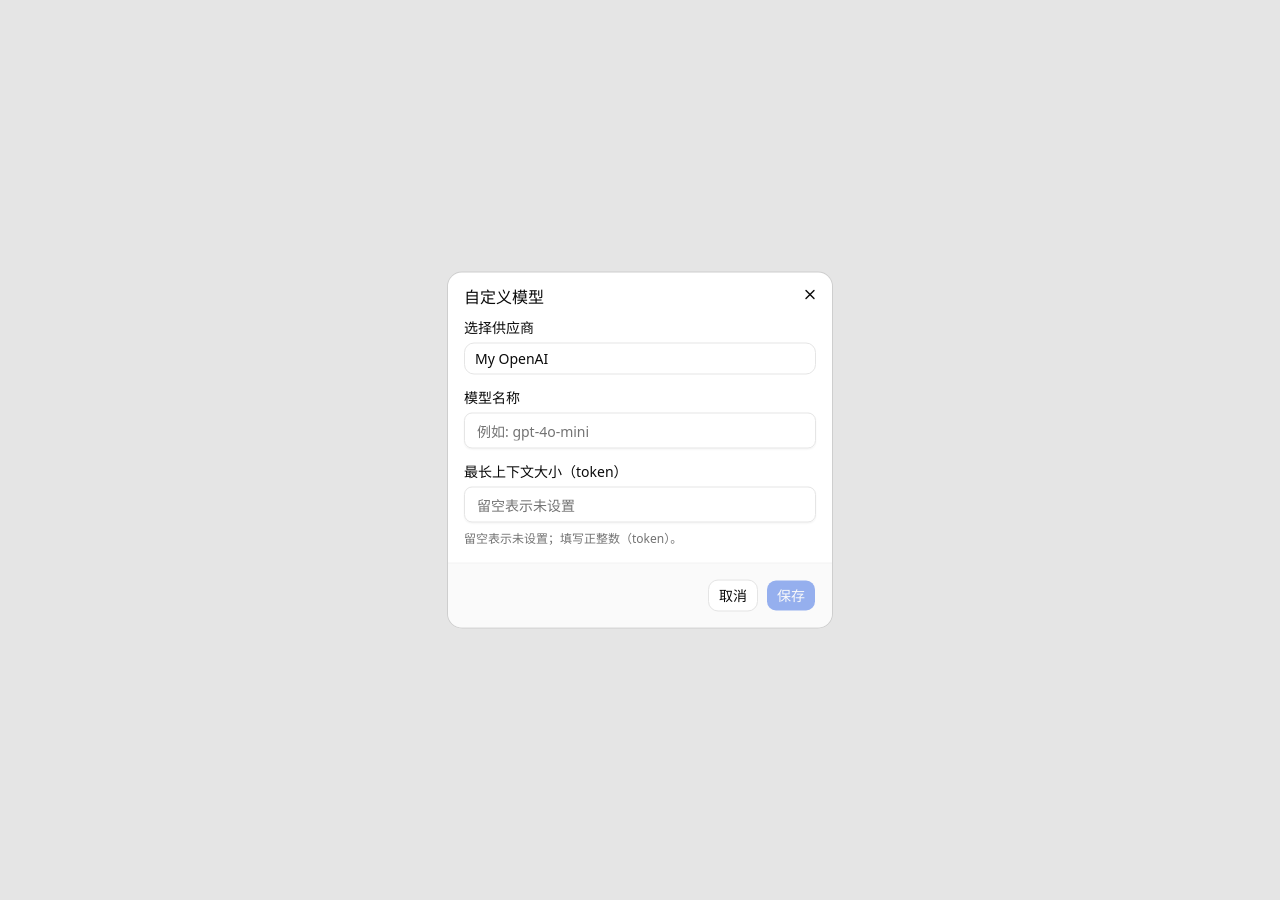
Test: CustomModelDialog › T-W3: surfaces the duplicate-name error from the mutation
Type "gpt-4o" into the field labelled "模型名称" at (640, 430), box [464,412,816,448]
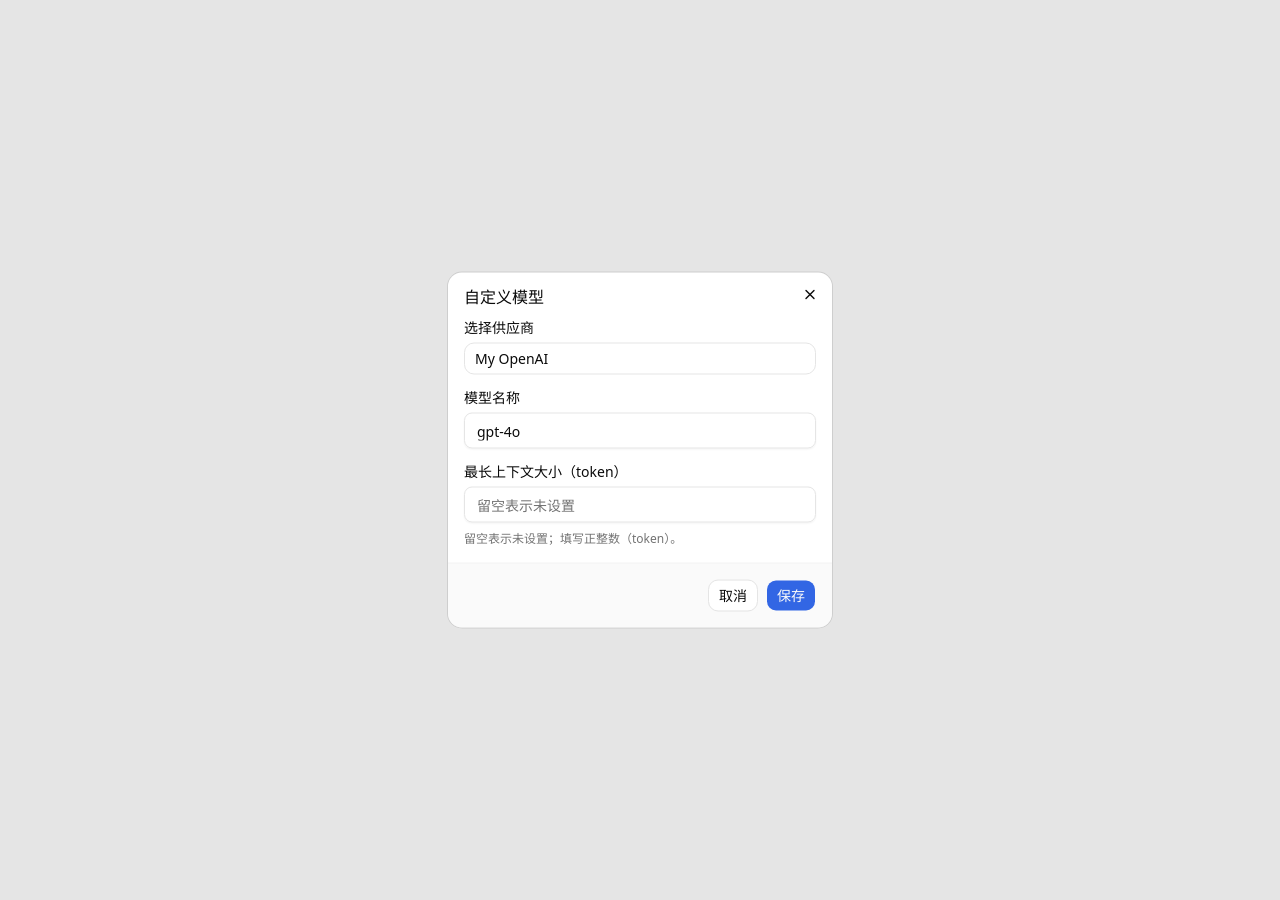
Click the button "保存" at (791, 596), box [766,580,816,612]
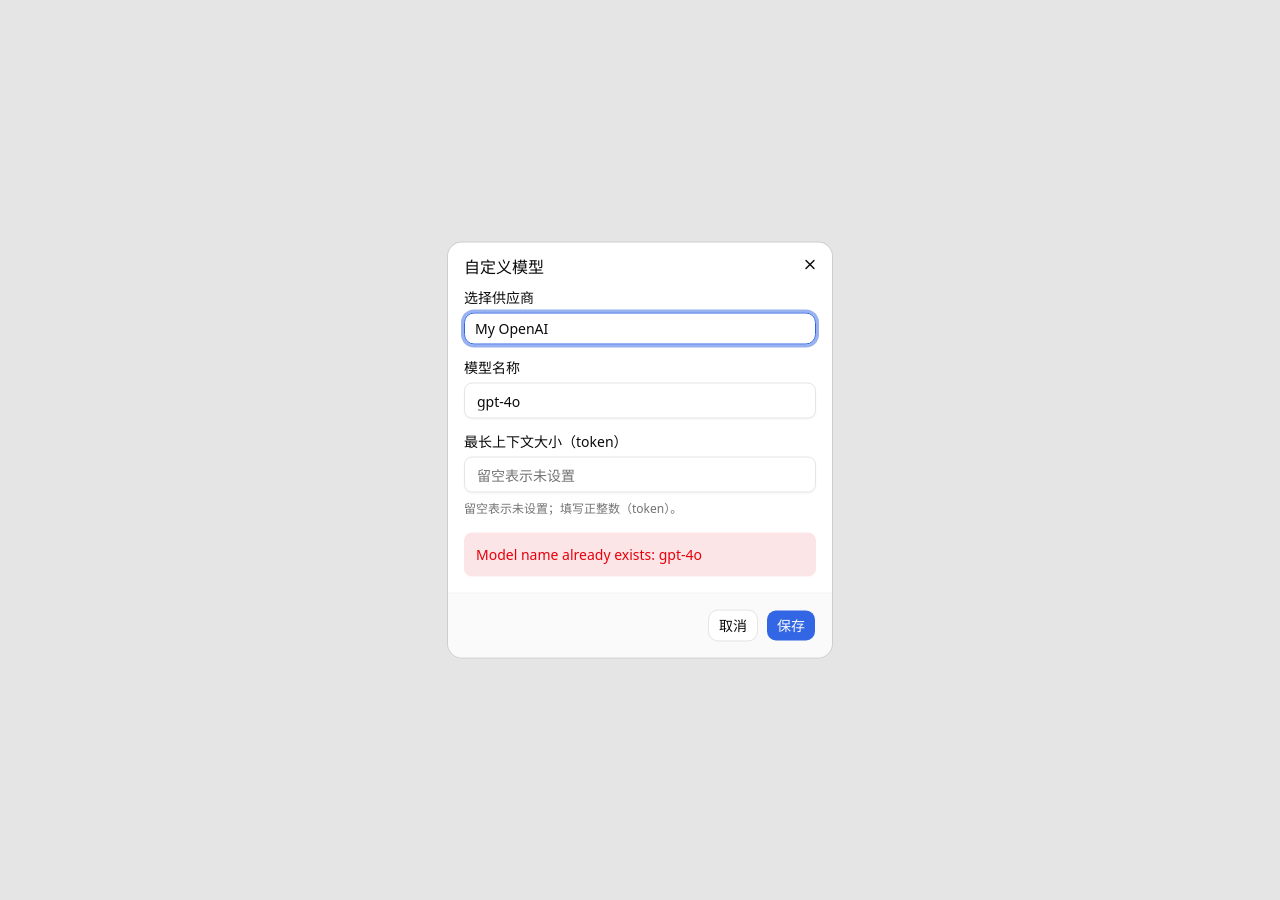
Now the message reads "Model name already exists: gpt-4o", box [476,544,702,564]
